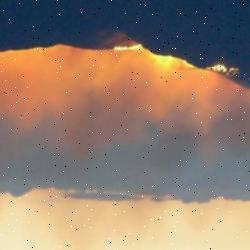fire: (113, 38, 236, 80)
